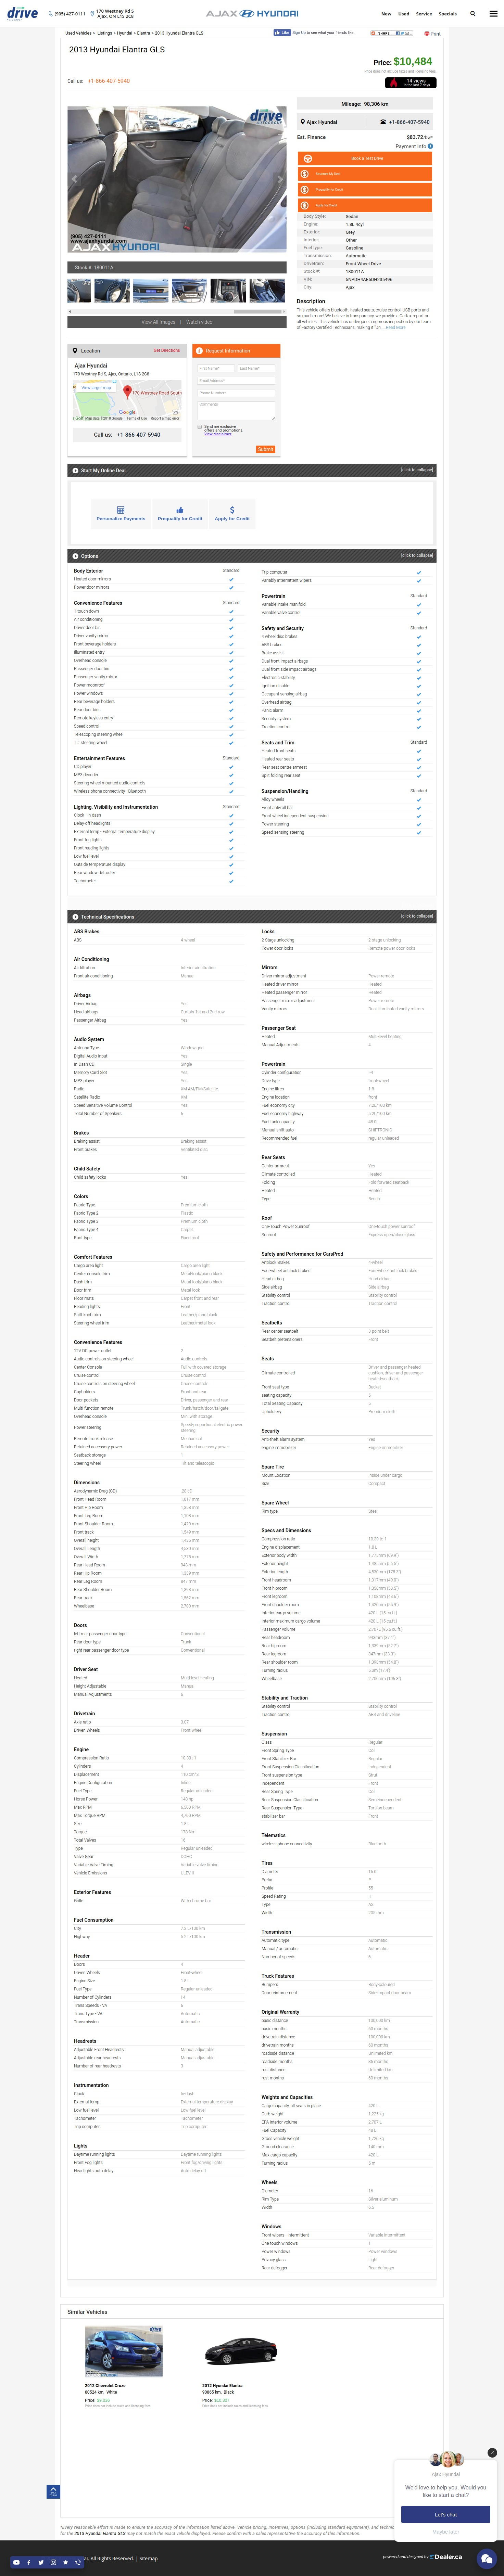car: (281, 307, 287, 315)
